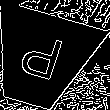P_S: (14, 30, 67, 89)
